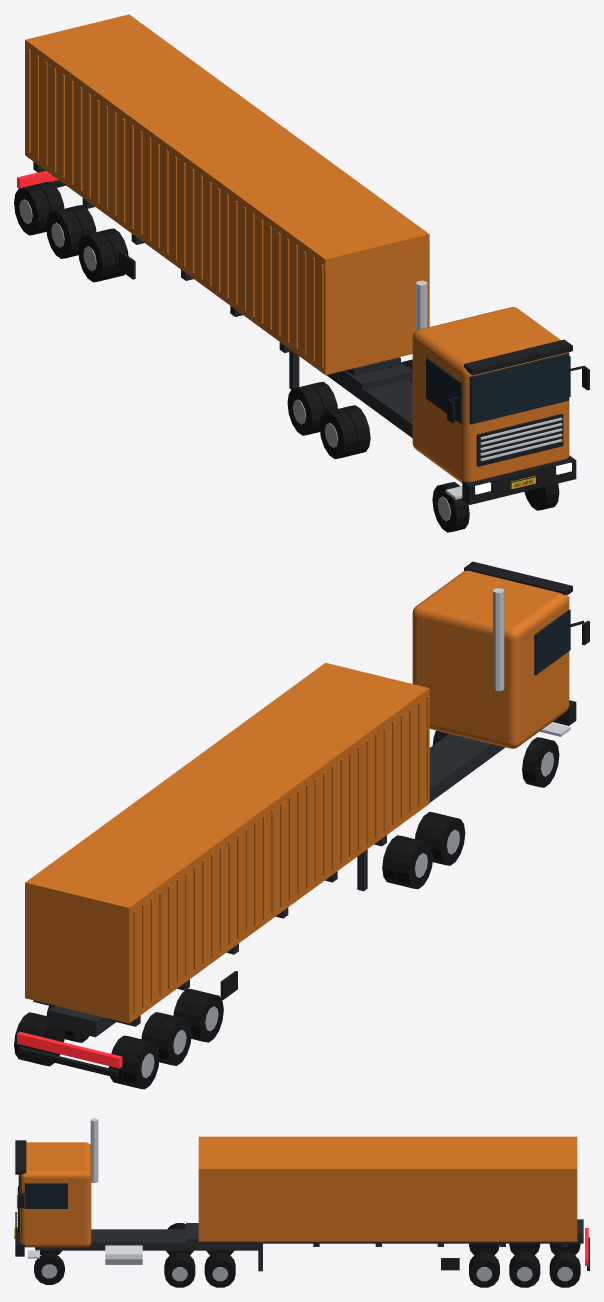
File: truck_f.glb
3 views of the same model, one above another, from view 1: azimuth 30°, elevation 25°; view 2: azimuth 150°, elevation 25°; view 3: azimuth 270°, elevation 25° (orthographic). The views are drawn at different scales.
Parts seen in each view (by area): view 1: truck; view 2: truck; view 3: truck.
Boxes of the visible parts, x1,y1,x2,y2 form: truck: [14, 14, 589, 532]; truck: [14, 561, 589, 1089]; truck: [14, 1118, 589, 1287].
Size of the model in its own units: 3.22 by 4.89 by 18.54.
Materials: 11 (1 with a texture image).
